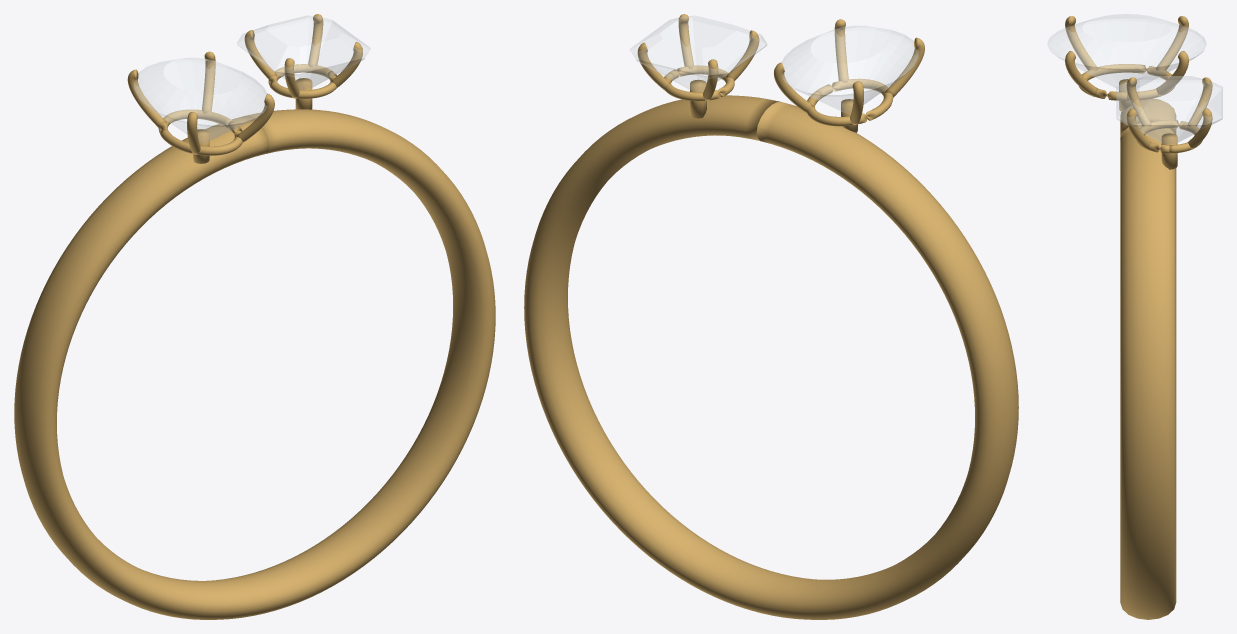
Rendered from layouts-toi-et-moi.glb.
3 renders of one model, left to right at view 1: azimuth 30°, elevation 25°; view 2: azimuth 150°, elevation 25°; view 3: azimuth 270°, elevation 25°, orthographic. The views are drawn at different scales.
Visible parts, largest first — view 1: Band, Gem, Gem.001, Lower gallery, Lower gallery.001, Prong.001, Prong; view 2: Band, Gem, Gem.001, Lower gallery, Lower gallery.001, Prong.002, Prong.003; view 3: Band, Gem, Gem.001, Lower gallery, Lower gallery.001, Prong.002, Prong.001, Prong.003, Prong, Prong.005, Prong.006, Side head support.001 (+2 smaller).
Boxes of the visible parts, bbox=[...] form: Band: bbox=[14, 109, 495, 619]; Gem: bbox=[134, 58, 266, 142]; Gem.001: bbox=[237, 15, 370, 89]; Lower gallery: bbox=[158, 109, 242, 155]; Lower gallery.001: bbox=[268, 64, 337, 98]; Prong.001: bbox=[127, 69, 166, 127]; Prong: bbox=[202, 51, 215, 113]; Band: bbox=[524, 95, 1018, 619]; Gem: bbox=[782, 26, 918, 112]; Gem.001: bbox=[629, 15, 767, 91]; Lower gallery: bbox=[807, 78, 893, 126]; Lower gallery.001: bbox=[664, 65, 734, 101]; Prong.002: bbox=[885, 37, 924, 97]; Prong.003: bbox=[834, 19, 848, 82]; Band: bbox=[1120, 98, 1176, 619]; Gem: bbox=[1047, 14, 1206, 89]; Gem.001: bbox=[1116, 76, 1222, 143]; Lower gallery: bbox=[1079, 64, 1174, 100]; Lower gallery.001: bbox=[1136, 120, 1202, 153]; Prong.002: bbox=[1065, 16, 1098, 70]; Prong.001: bbox=[1156, 16, 1188, 70]; Prong.003: bbox=[1065, 51, 1097, 96]; Prong: bbox=[1156, 51, 1188, 96]; Prong.005: bbox=[1187, 77, 1212, 126]; Prong.006: bbox=[1126, 77, 1151, 125]; Side head support.001: bbox=[1161, 133, 1177, 169].
Size of the model in its own units: 19.6 by 22.25 by 6.6.
